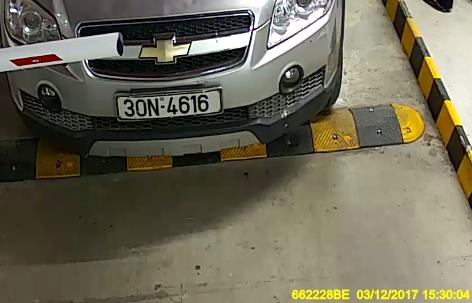plate: (114, 90, 224, 121)
